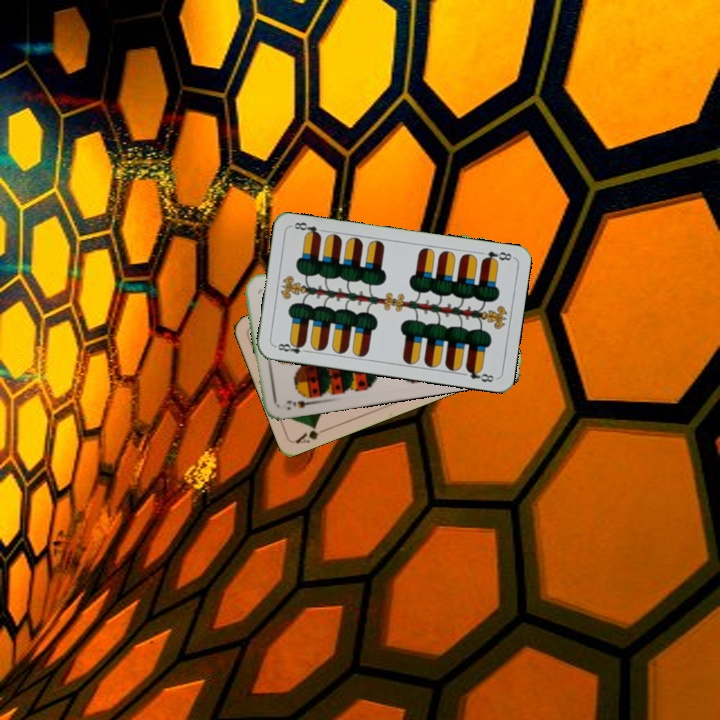E8: (271, 338, 311, 356), (478, 247, 515, 266)
GA: (292, 421, 331, 446)
S9: (282, 391, 318, 411)
